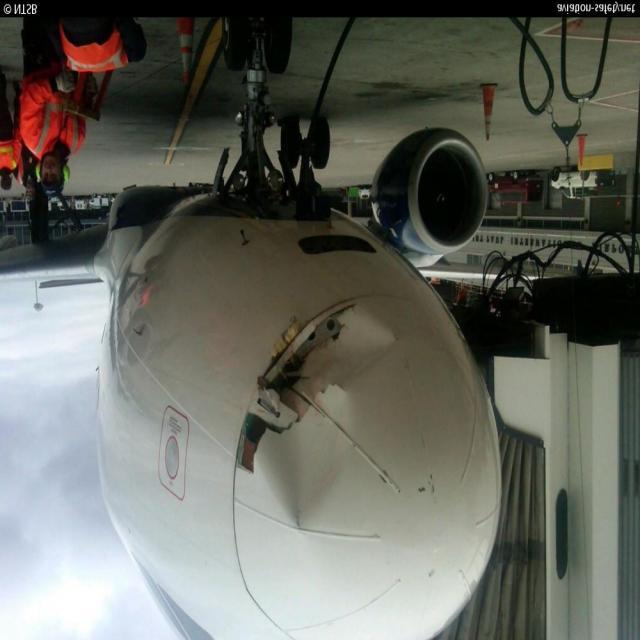dent: (255, 396, 348, 531), (328, 305, 400, 380)
